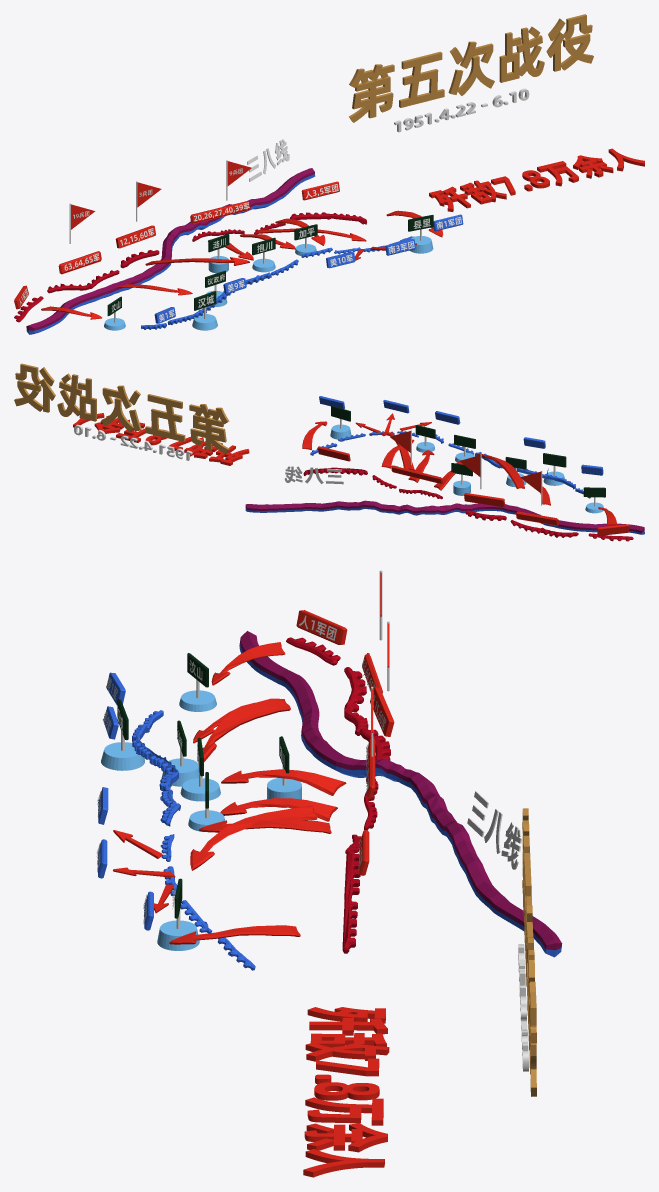
File: 1-5-animate.glb
3 views of the same model, one above another, from view 1: azimuth 30°, elevation 25°; view 2: azimuth 150°, elevation 25°; view 3: azimuth 270°, elevation 25° (orthographic). The views are drawn at different scales.
Visible parts, largest first — view 1: 文本.031, 文本.033, 38line3, 文本.032, 柱体.022, 柱体.028, 11.005, 柱体.025, 文本.030, 柱体.023, 2.015, 11.003 (+5 smaller); view 2: 文本.031, 38line3, 文本.033, 文本.032, 文本.030, 柱体.028, 柱体.022, 柱体.023, 柱体.024, 贝塞尔曲线.146, 柱体.026, 2.015 (+13 smaller); view 3: 文本.033, 38line3, 文本.031, 贝塞尔曲线.151, 贝塞尔曲线.146, 2.009, 柱体.022, 贝塞尔曲线.147, 文本.030, 柱体.028, 柱体.024, 贝塞尔曲线.150 (+9 smaller).
Part boxes in pixels (left/top/right/bottom): 文本.031: left=349, top=14, right=593, bottom=122; 文本.033: left=429, top=148, right=644, bottom=211; 38line3: left=26, top=168, right=315, bottom=334; 文本.032: left=394, top=88, right=529, bottom=132; 柱体.022: left=192, top=291, right=217, bottom=330; 柱体.028: left=408, top=215, right=433, bottom=253; 11.005: left=190, top=201, right=250, bottom=223; 柱体.025: left=252, top=237, right=275, bottom=272; 文本.030: left=247, top=139, right=289, bottom=181; 柱体.023: left=208, top=234, right=229, bottom=273; 2.015: left=167, top=272, right=271, bottom=324; 11.003: left=58, top=251, right=101, bottom=274; 文本.031: left=14, top=363, right=229, bottom=453; 38line3: left=245, top=500, right=644, bottom=534; 文本.033: left=73, top=410, right=249, bottom=465; 文本.032: left=74, top=424, right=192, bottom=460; 文本.030: left=284, top=466, right=343, bottom=484; 柱体.028: left=330, top=405, right=351, bottom=439; 柱体.022: left=543, top=453, right=566, bottom=485; 柱体.023: left=451, top=463, right=472, bottom=495; 柱体.024: left=583, top=487, right=605, bottom=513; 贝塞尔曲线.146: left=477, top=453, right=524, bottom=488; 柱体.026: left=415, top=425, right=435, bottom=452; 2.015: left=474, top=452, right=575, bottom=489; 文本.033: left=303, top=1007, right=389, bottom=1177; 38line3: left=239, top=631, right=562, bottom=957; 文本.031: left=522, top=808, right=536, bottom=1096; 贝塞尔曲线.151: left=190, top=805, right=317, bottom=870; 贝塞尔曲线.146: left=197, top=698, right=290, bottom=761; 2.009: left=342, top=850, right=360, bottom=953; 柱体.022: left=101, top=699, right=144, bottom=770; 贝塞尔曲线.147: left=221, top=769, right=346, bottom=795; 文本.030: left=467, top=791, right=521, bottom=869; 柱体.028: left=157, top=878, right=199, bottom=950; 柱体.024: left=179, top=653, right=216, bottom=711; 贝塞尔曲线.150: left=169, top=925, right=300, bottom=944.
Bounding box in the file's own units: 52.5 × 8.26 × 18.96.
